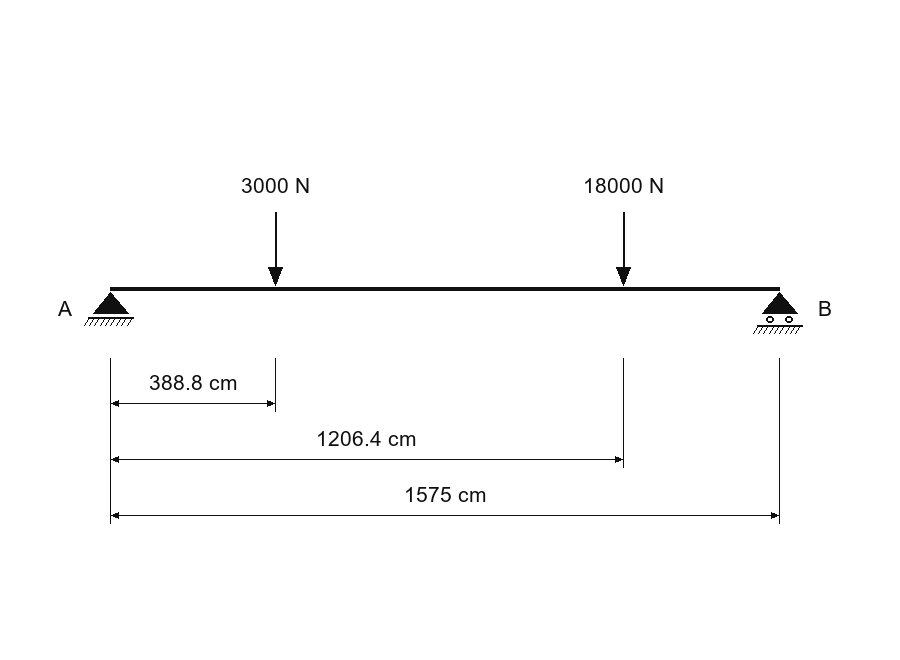pin_support: (84, 292, 134, 326)
point_load: (268, 212, 283, 286), (616, 212, 631, 286)
roller_support: (753, 292, 803, 334)
